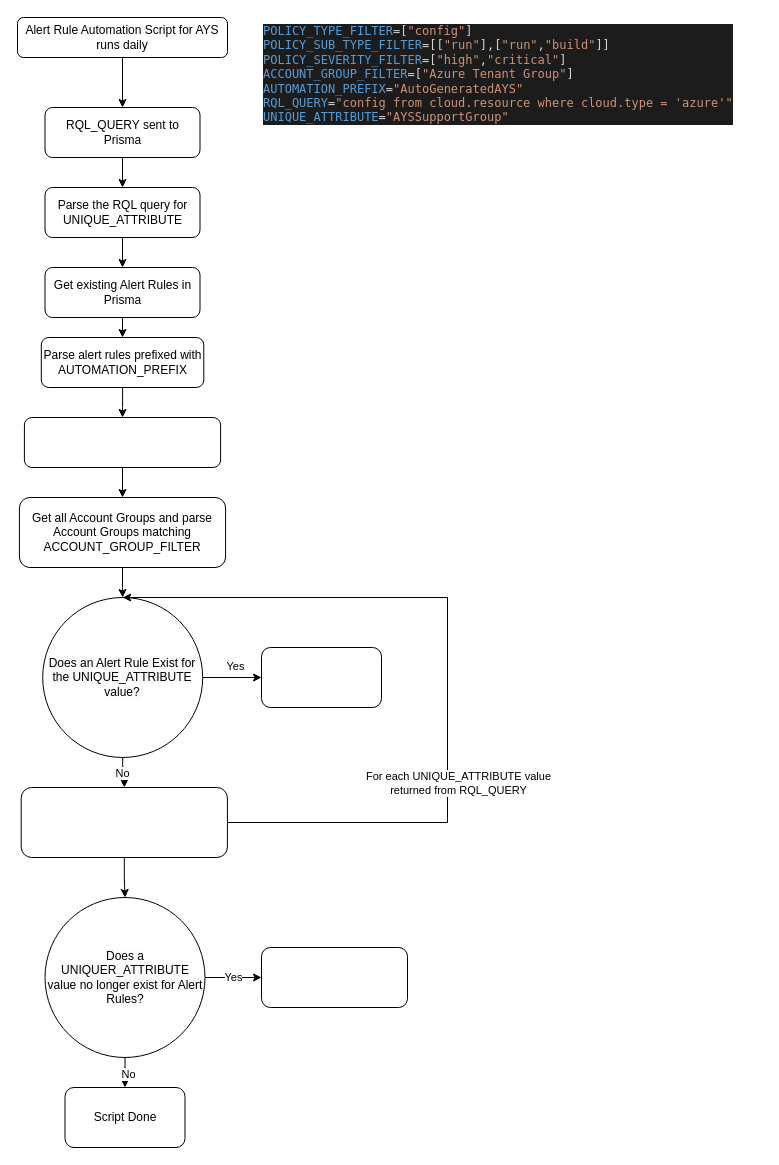
Some shapes in this 779 by 1165 pixel diagram are drawn without their labels. Here are the shapes that lost their labels. From the top down, the centre of each, then its label:
the point at 122,442: Get all Policies and parse Policies with POLICY_*_FILTER
the point at 321,677: Do nothing
the point at 123,822: Create the Alert Rule
the point at 334,977: Delete the Alert Rules
